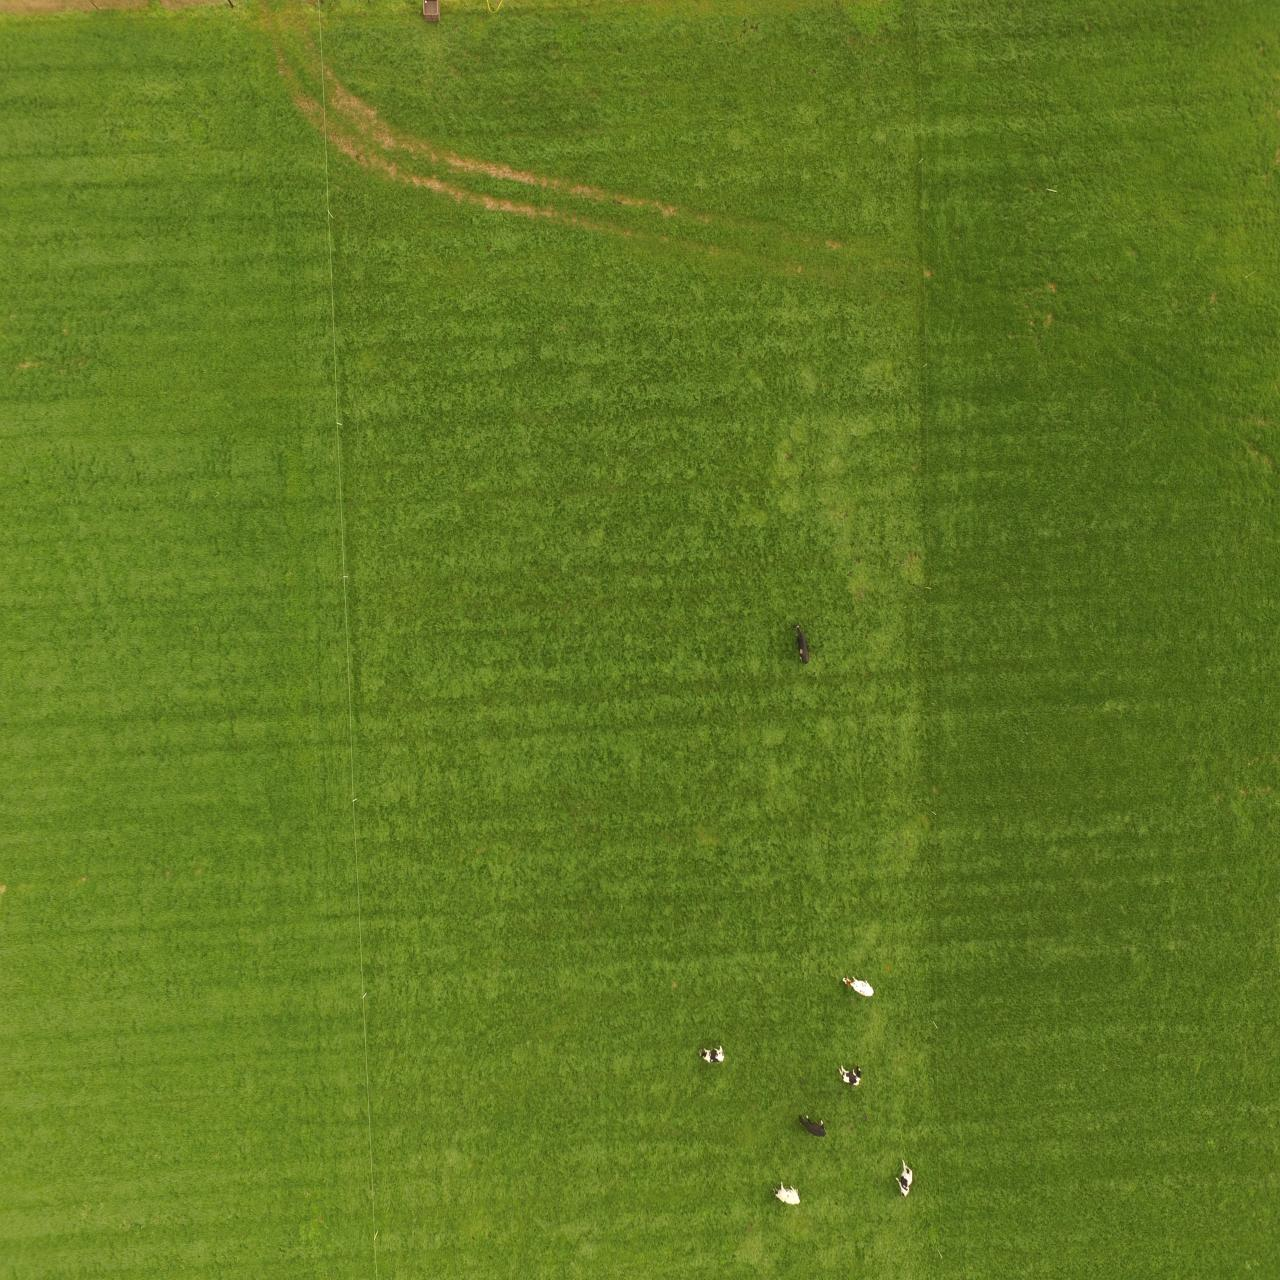cow: (797, 1110, 833, 1142), (769, 1178, 803, 1210), (839, 973, 878, 1000), (792, 621, 815, 667), (837, 1061, 864, 1089), (897, 1156, 913, 1200), (696, 1044, 727, 1064)
